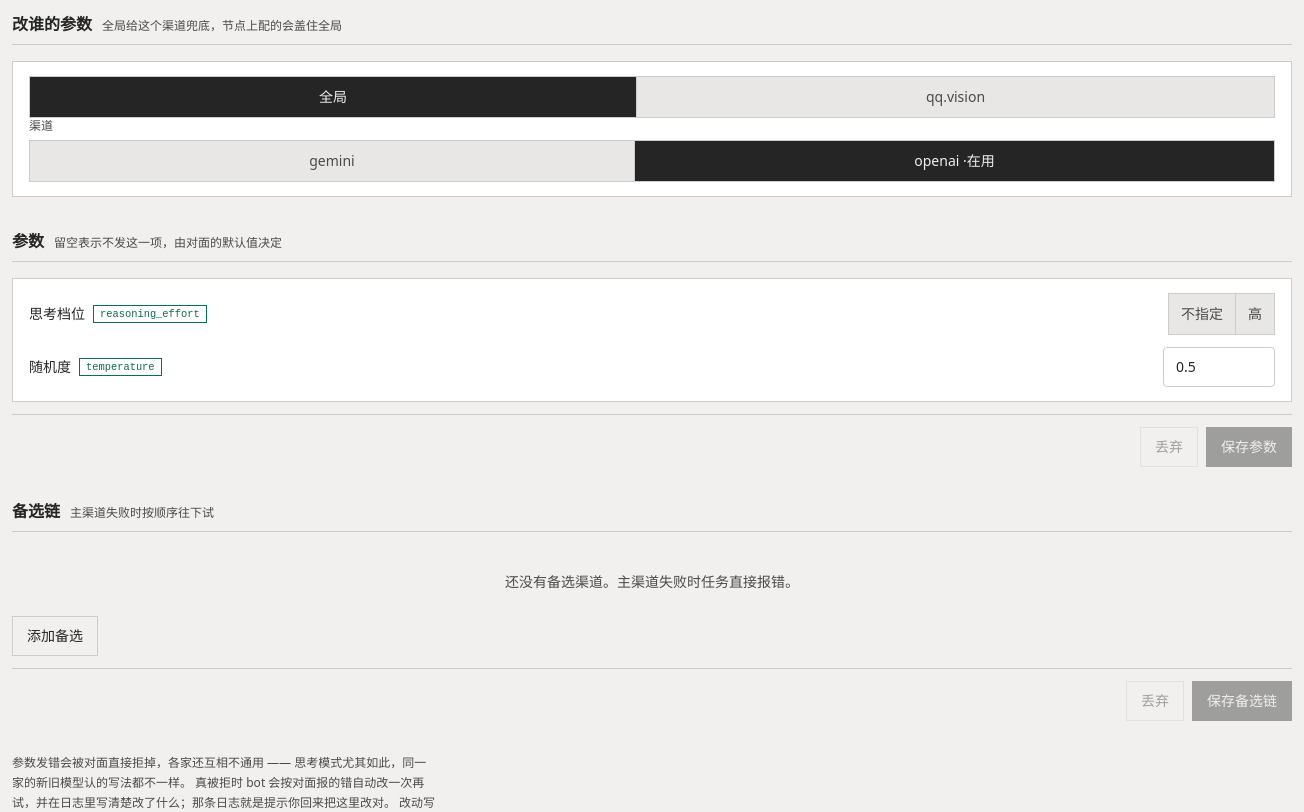
Scenario: 模型参数页 › 保存后照后端重读生效值：删掉的键回到默认那层的值
The width and height of the screenshot is (1304, 812).
Clear the field named "随机度" at (1219, 367), box [1163,347,1275,387]
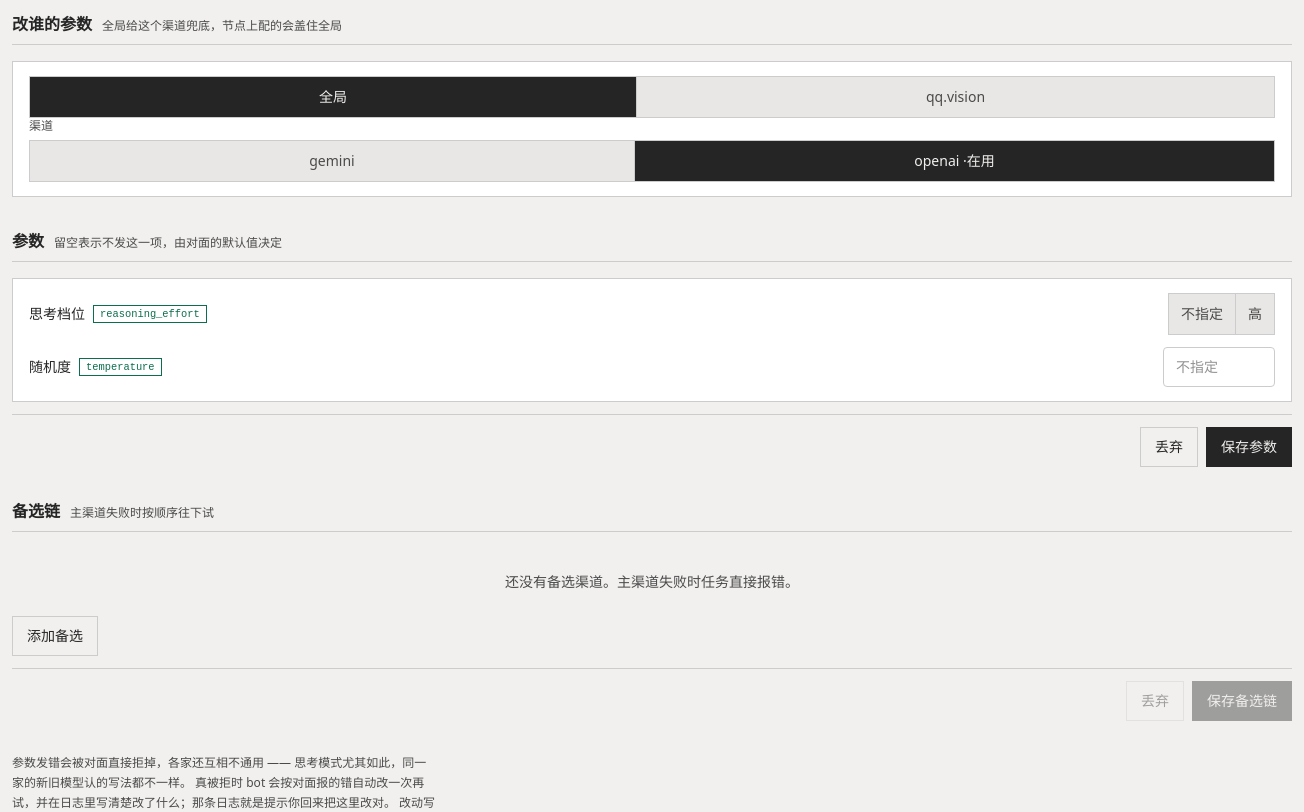
Click the button "保存参数" at (1249, 447), box [1206,427,1292,467]
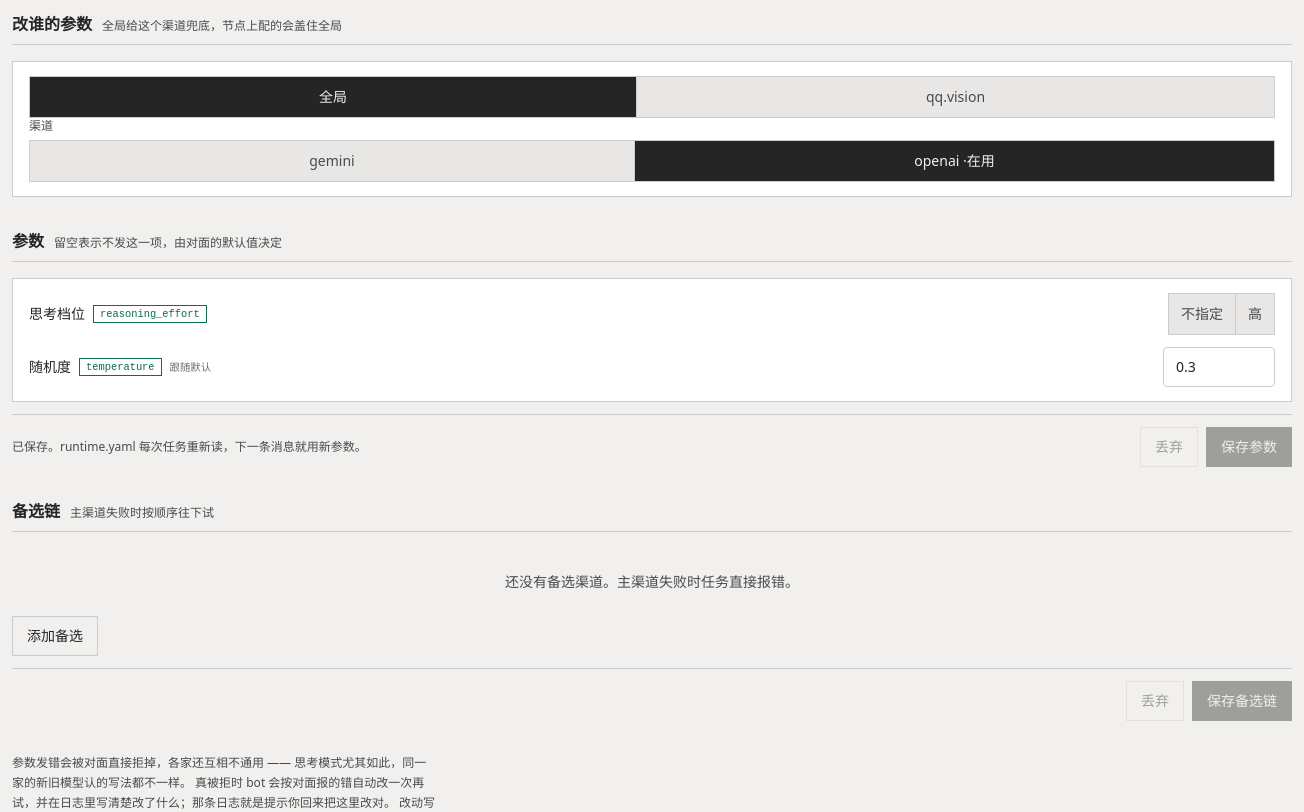
Now the field named "随机度" holds "0.3", box [1163,347,1275,387]
Now the text "跟随默认" is shown, box [170,359,211,375]
